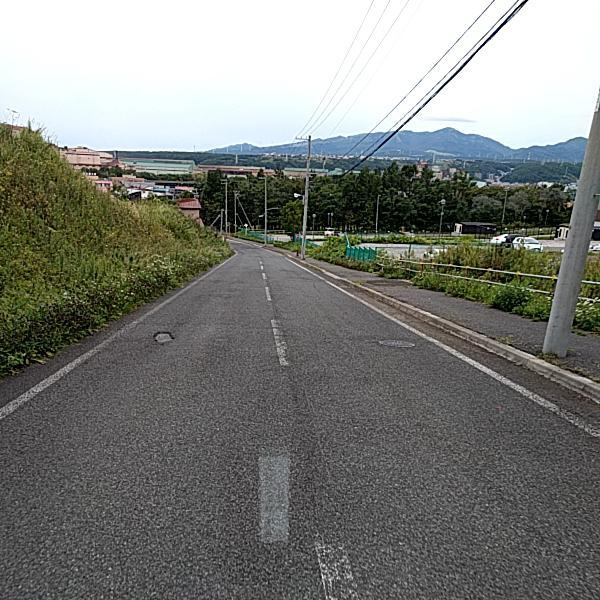D40: (146, 324, 175, 347)
D44: (261, 309, 293, 384)
D50: (378, 336, 415, 348)
